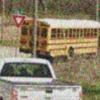buses: (18, 16, 100, 61)
cars: (1, 57, 82, 100)
